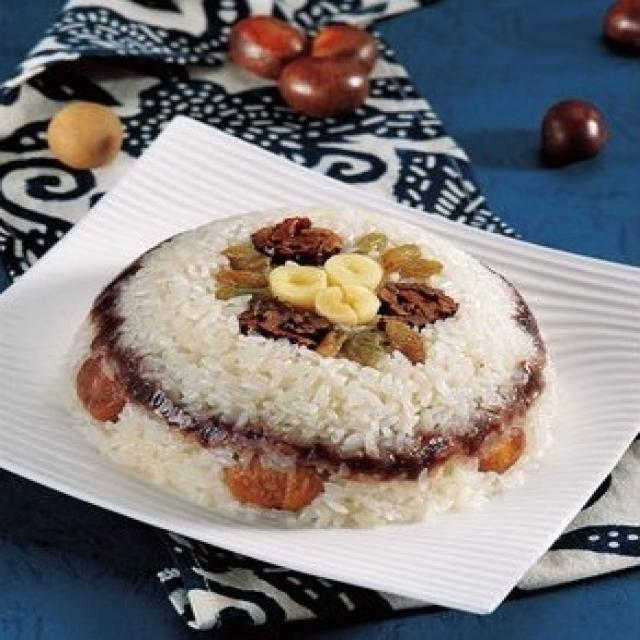米饭主食: (39, 111, 586, 588)
